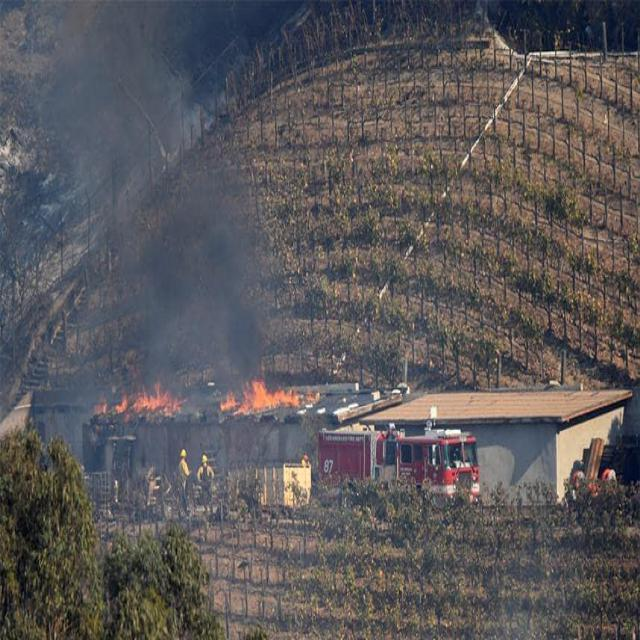Fire: (102, 360, 187, 426), (217, 373, 304, 422)
